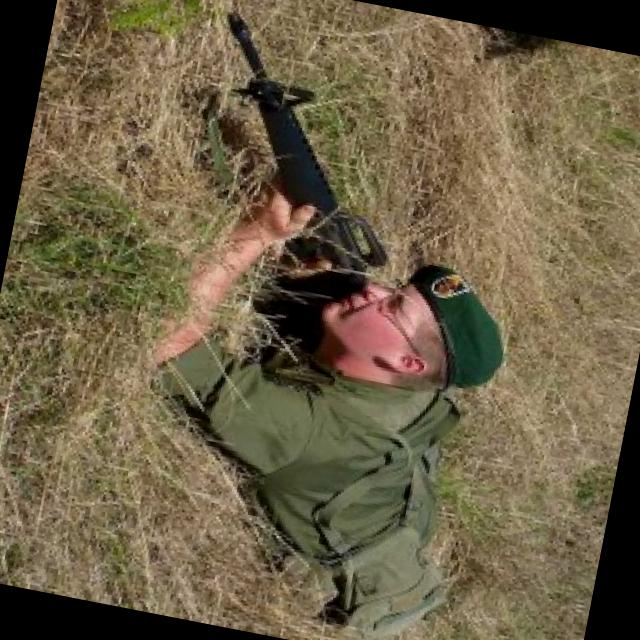long weapon: (192, 0, 395, 309)
